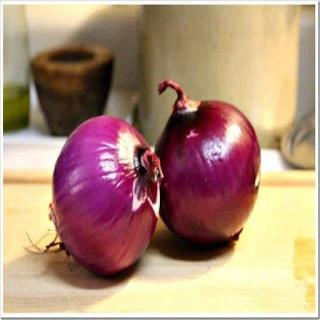Bawang Merah: (152, 79, 264, 249), (48, 115, 164, 279)
